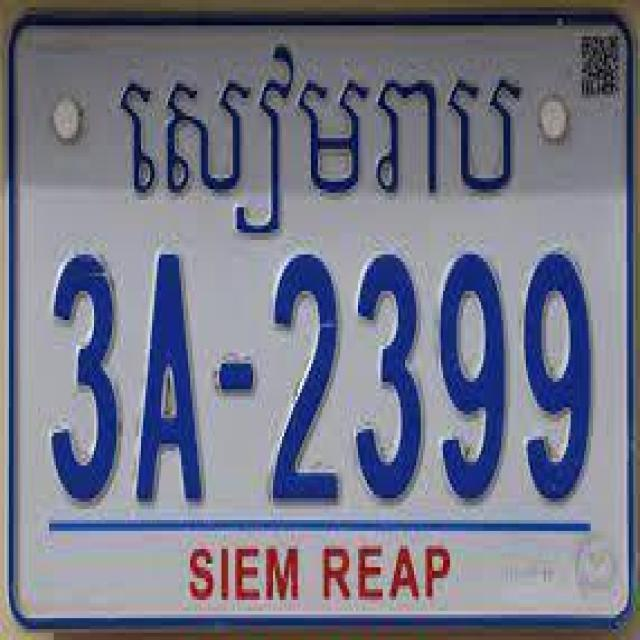Siem_Reap: (114, 29, 529, 242)
